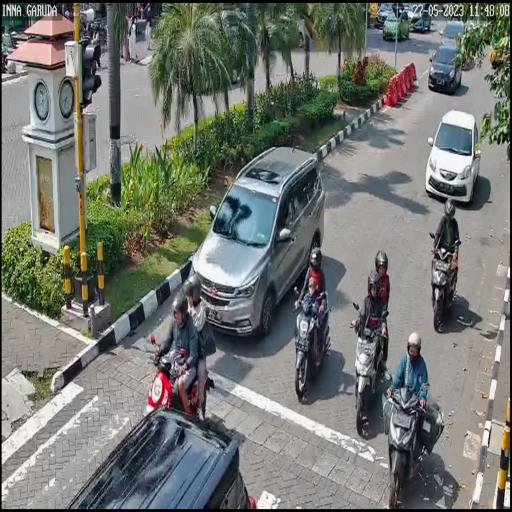mobil: (185, 143, 325, 342), (425, 109, 478, 206), (429, 46, 462, 94)
motor: (384, 369, 430, 509), (145, 334, 213, 422), (349, 299, 390, 438), (290, 284, 331, 407), (427, 228, 464, 334)
